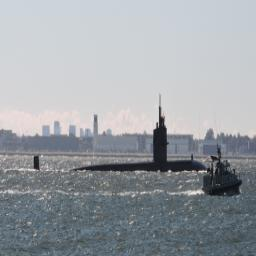submarine: (34, 94, 208, 171)
